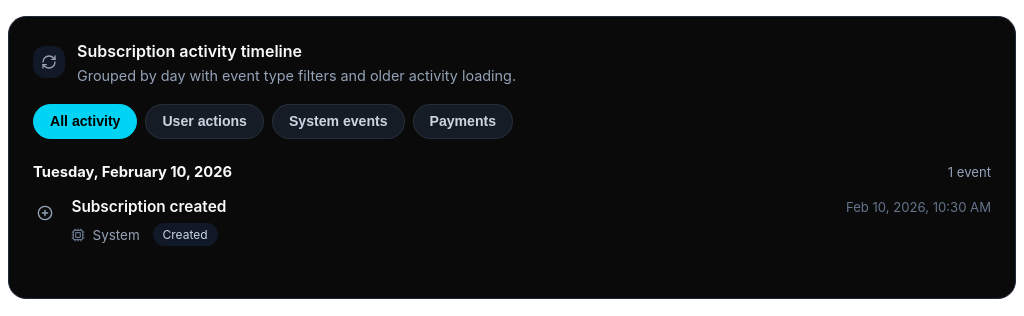
PlanStatusTimeline › shows no results state when a filter matches no events
Click the button "Payments".
click(463, 121)  # box [412,104,513,139]
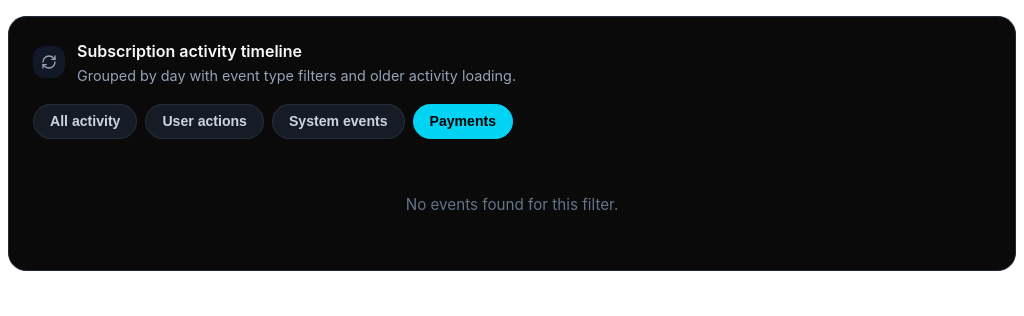
Now the text "No events found for this filter." is shown, box [406,195,618,214]
